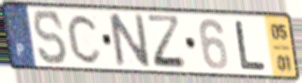6: (197, 17, 229, 71)
C: (66, 12, 104, 66)
L: (233, 19, 268, 72)
N: (106, 12, 153, 70)
S: (32, 8, 70, 67)
Z: (145, 13, 190, 72)
